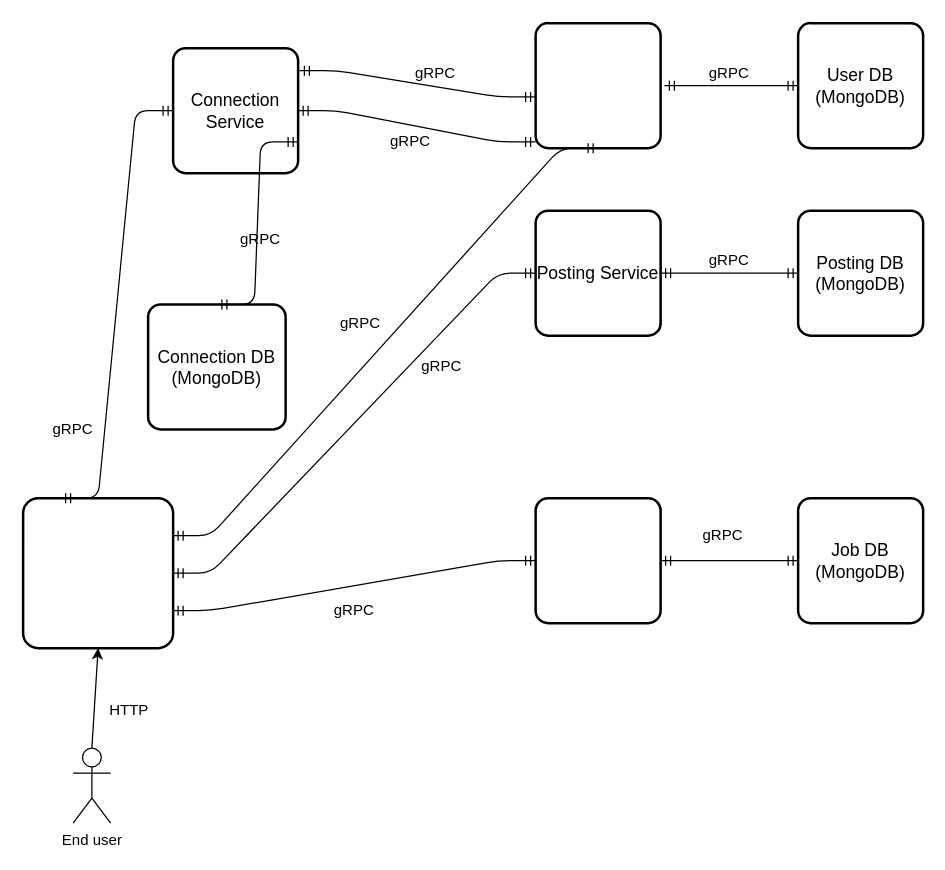
This 945x870 diagram has some shape labels left out. Each missing label, with the box of its shape:
API gateway: (21, 496, 174, 649)
Job Service: (534, 496, 661, 624)
User Service: (534, 21, 661, 149)
